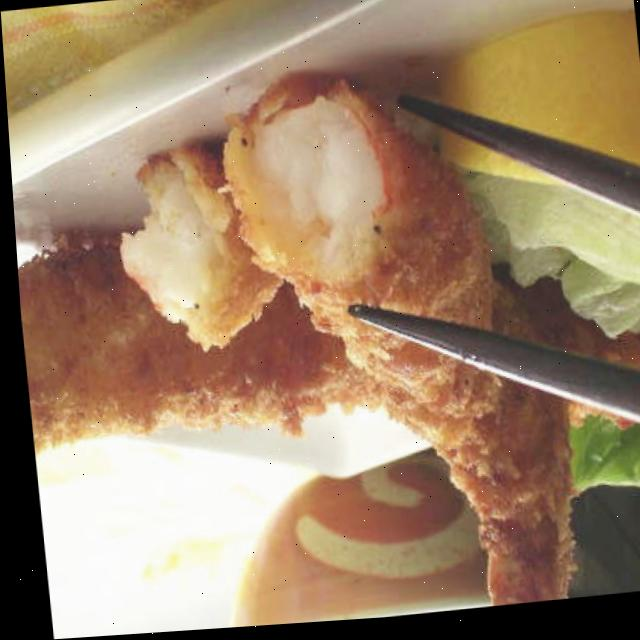炸货点心: (4, 45, 600, 640)
熟制海鲜: (4, 45, 600, 640)
